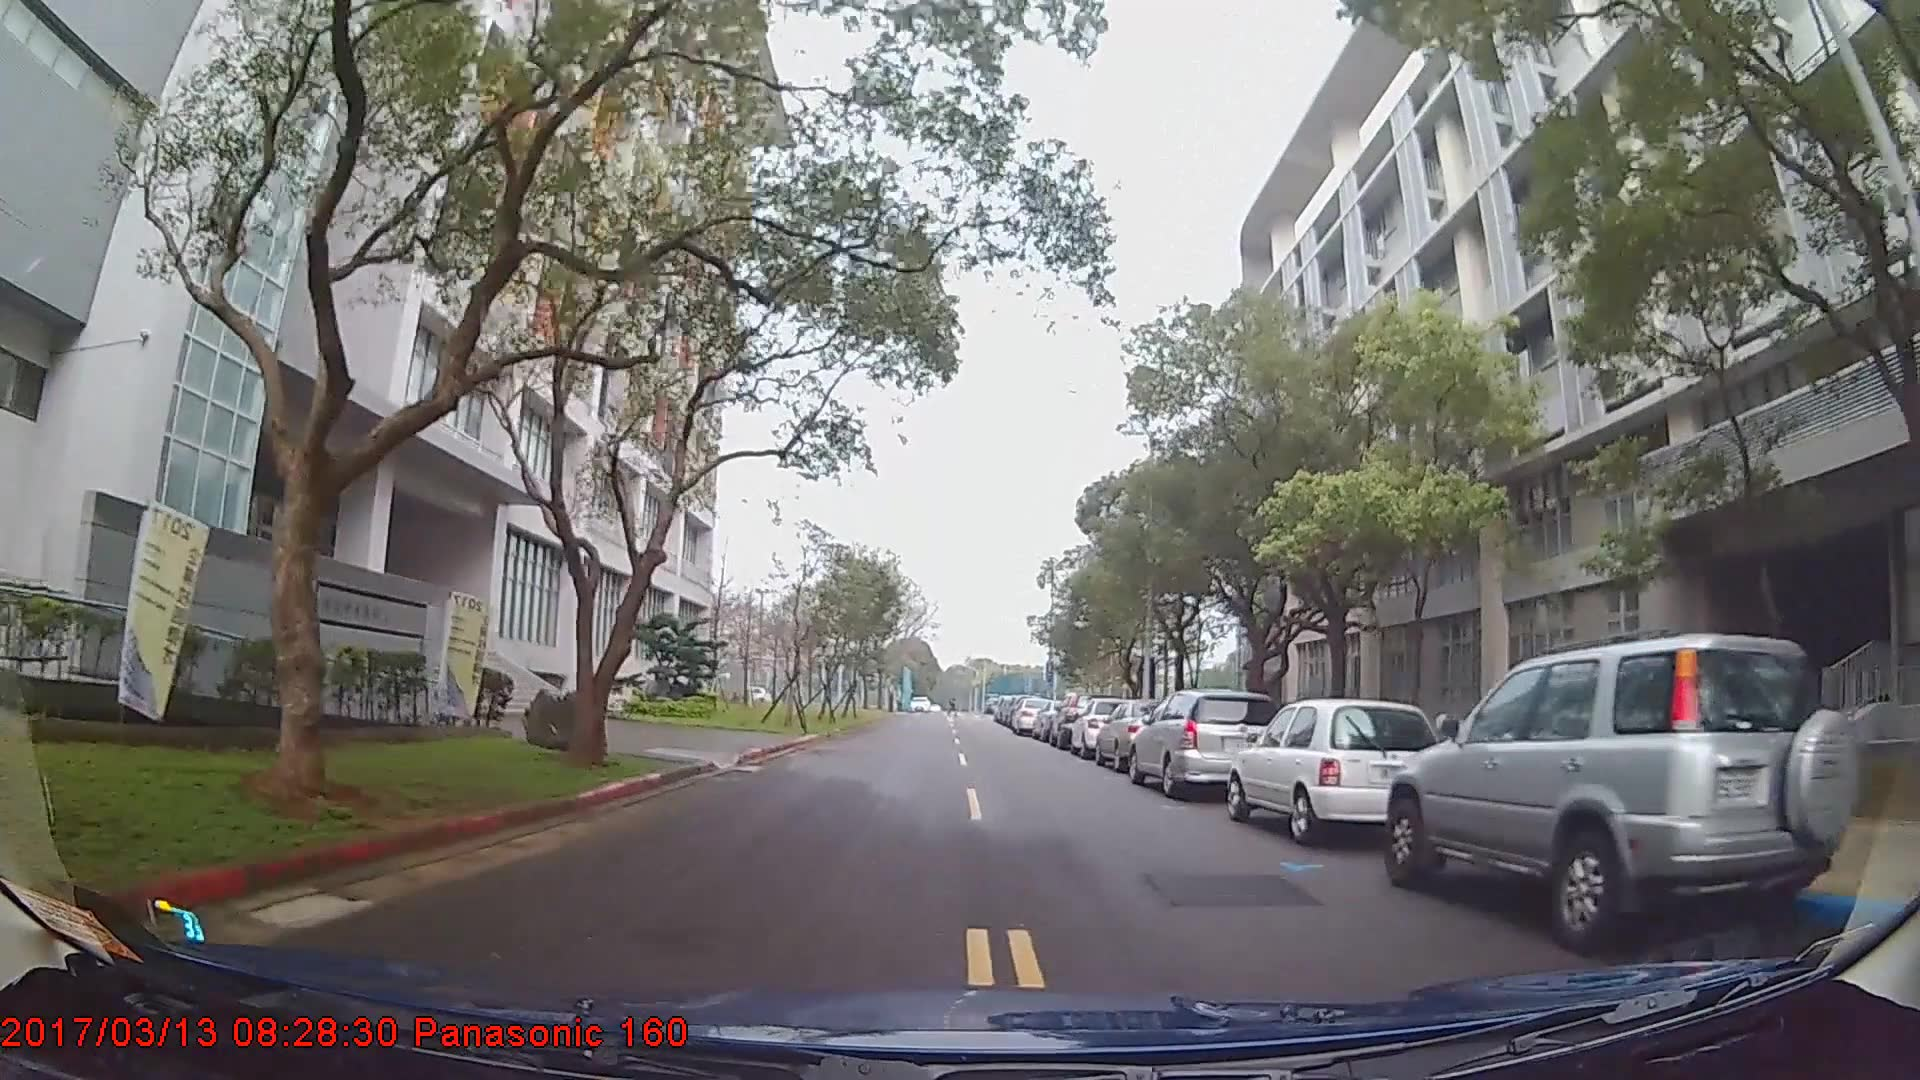vehicle: (1383, 626, 1863, 951), (1226, 695, 1443, 845), (1124, 687, 1282, 796), (1092, 692, 1184, 769), (1007, 692, 1054, 733)
